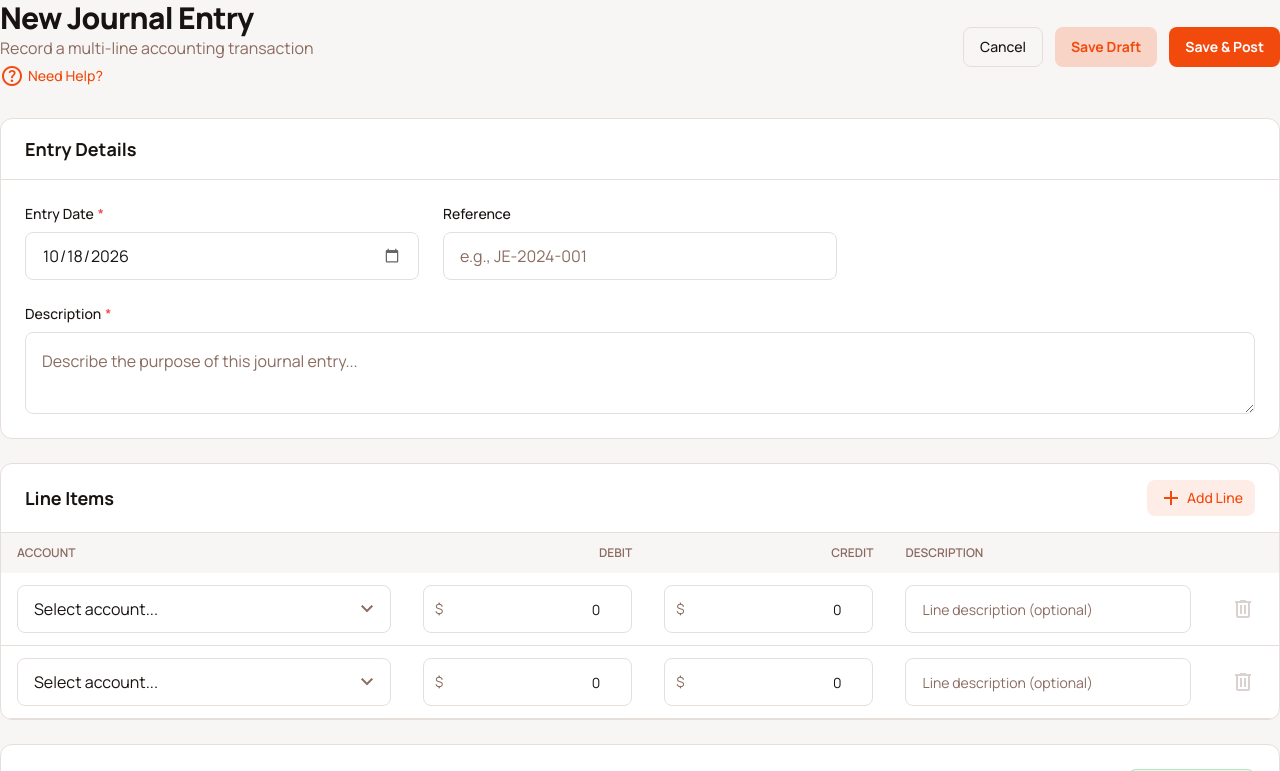
Test: JournalEntryPage validation › blocks an empty entry with the field and line messages, and sends nothing
Click the button with test id "journal-entry-save-draft-button". click: {"x": 1106, "y": 47}
box: [1055,27,1157,67]
(page scrolled)
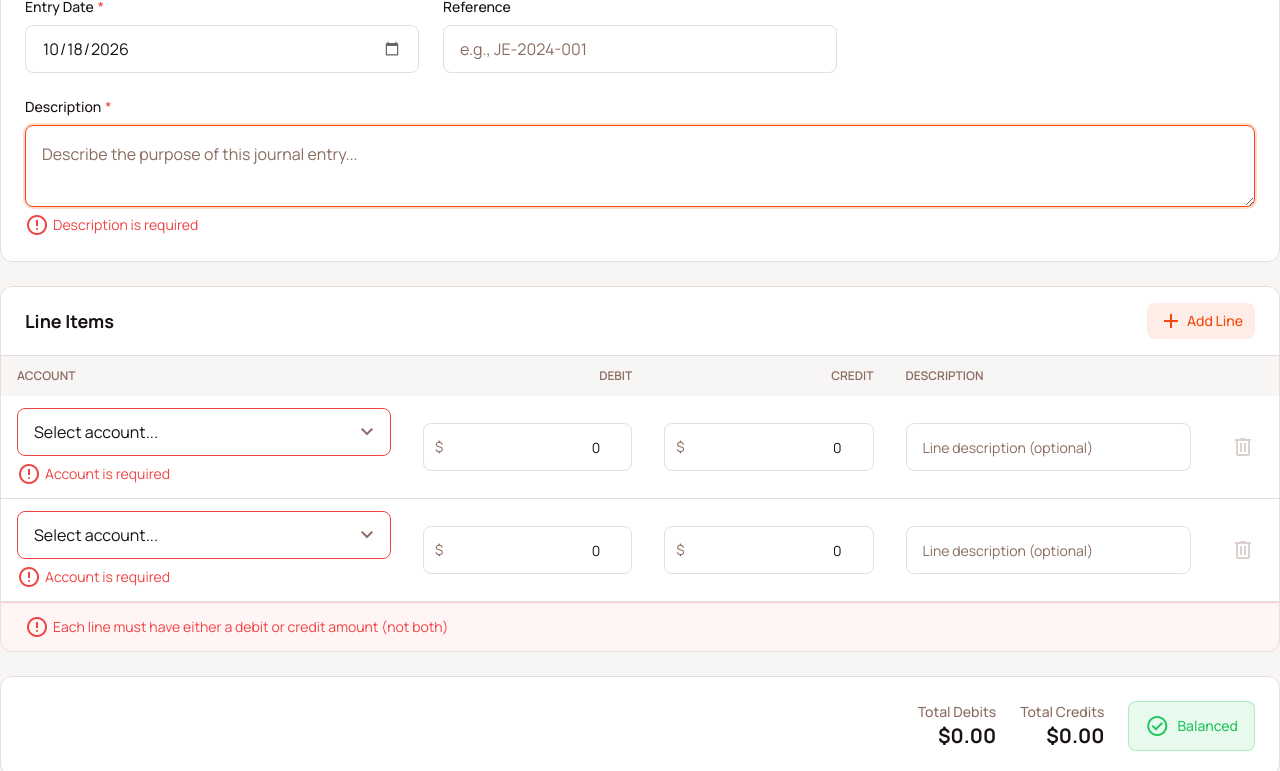
Result: the text "Description is required" is shown at [25,211,198,239]
Result: the text "Account is required" is shown 2 times at [17,460,170,488]; [17,563,170,591]
Result: the text "Each line must have either a debit or credit amount (not both)" is shown at [25,613,448,641]
